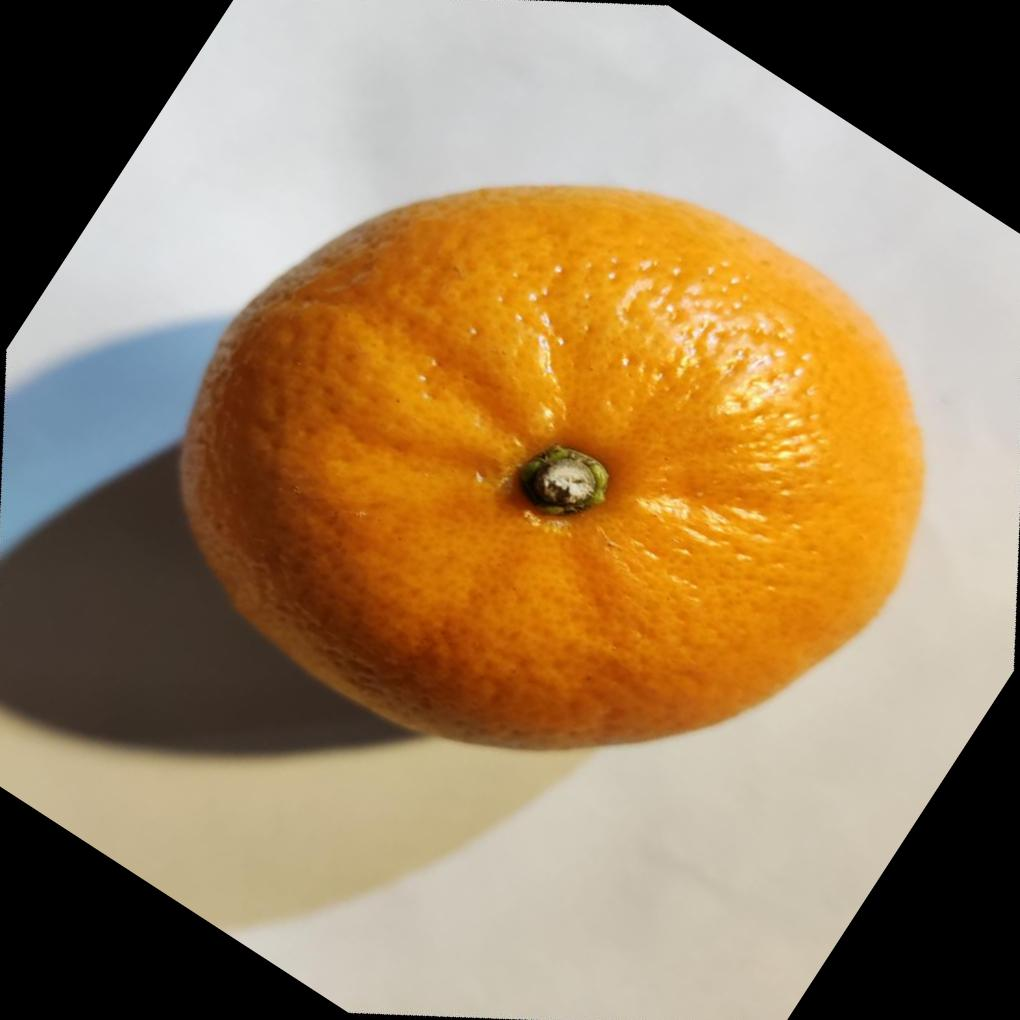FreshGuava: (179, 183, 931, 754)
